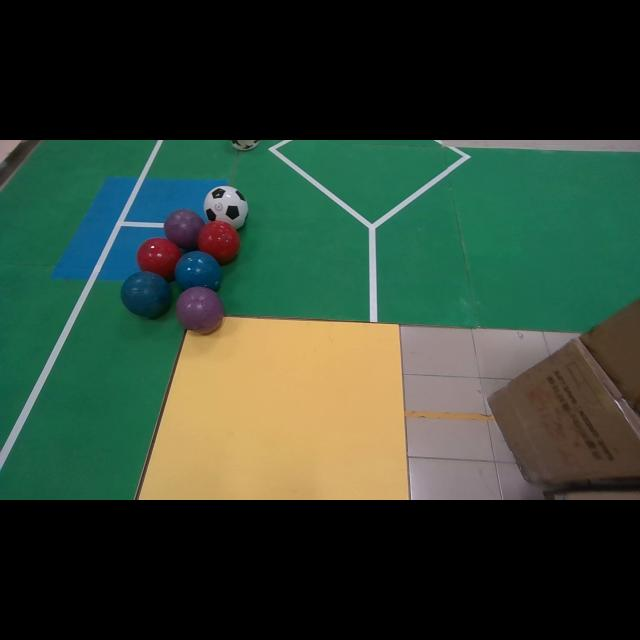B: (120, 272, 171, 318), (175, 251, 222, 291)
P: (176, 286, 224, 334), (164, 210, 205, 251)
R: (136, 238, 182, 281), (198, 220, 240, 265)
